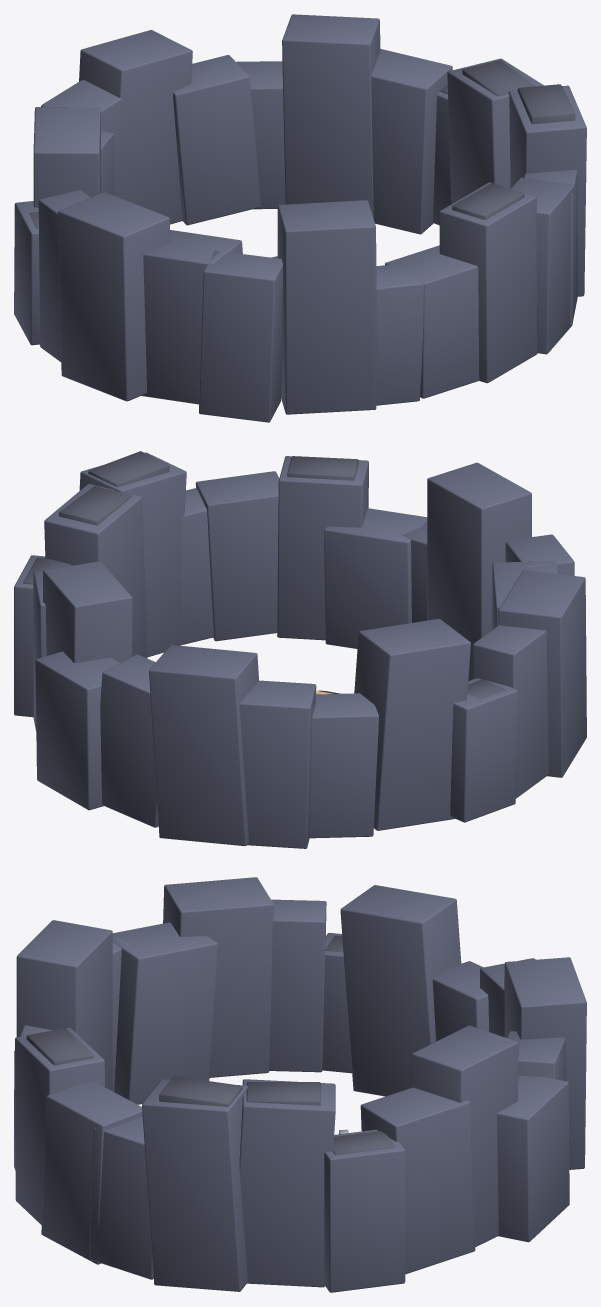
Rendered from stone_warden.glb.
3 views of the same model, one above another, from view 1: azimuth 30°, elevation 25°; view 2: azimuth 150°, elevation 25°; view 3: azimuth 270°, elevation 25° (orthographic). The views are drawn at different scales.
Visible parts, largest first — view 1: StoneWardenGround; view 2: StoneWardenGround; view 3: StoneWardenGround.
Boxes of the visible parts, box(x1,y1,x2,y2) form: StoneWardenGround: box(14, 14, 586, 422); StoneWardenGround: box(14, 451, 586, 848); StoneWardenGround: box(14, 877, 586, 1292).
Size of the model in its own units: 42 by 15.5 by 40.5.
Materials: 1 (1 with a texture image).
